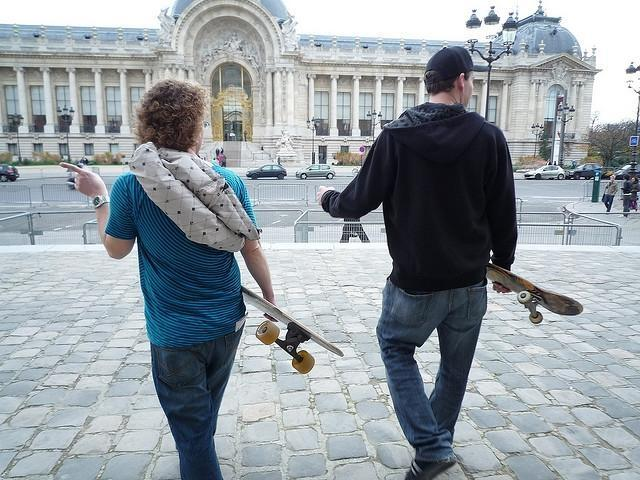car: (524, 164, 566, 181), (245, 164, 287, 180), (296, 164, 336, 180), (566, 163, 602, 180), (0, 164, 20, 182), (614, 165, 631, 179)
